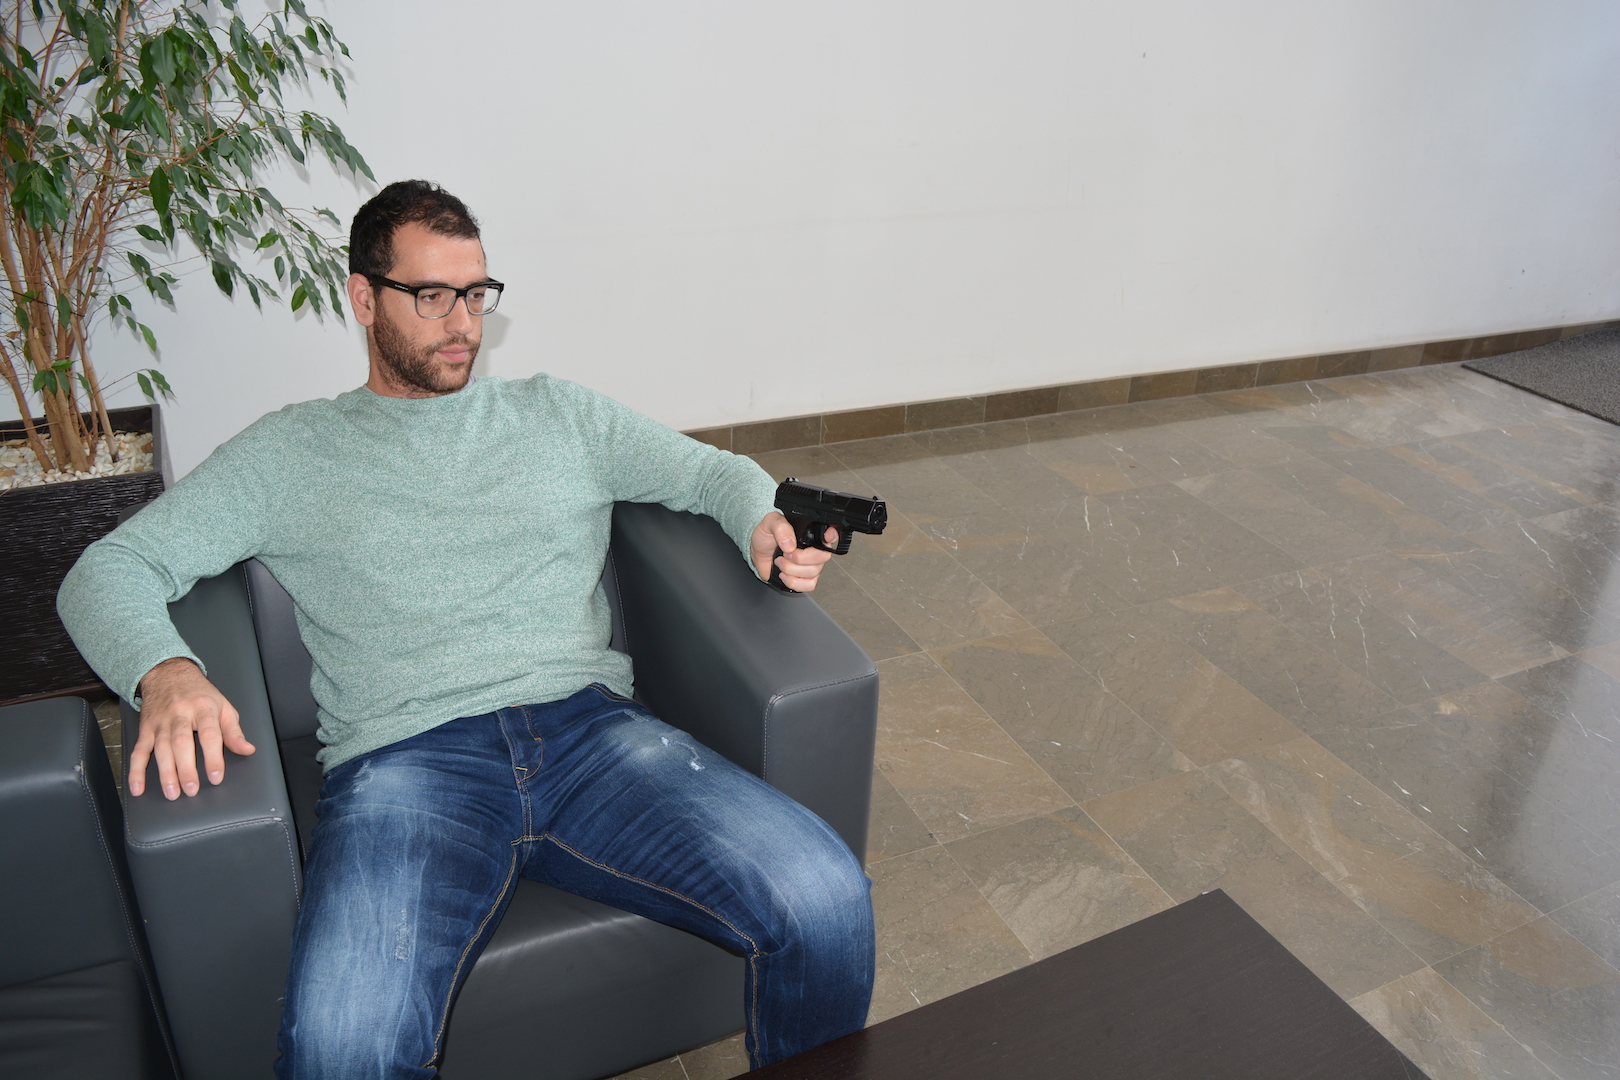pistol: (769, 476, 890, 594)
